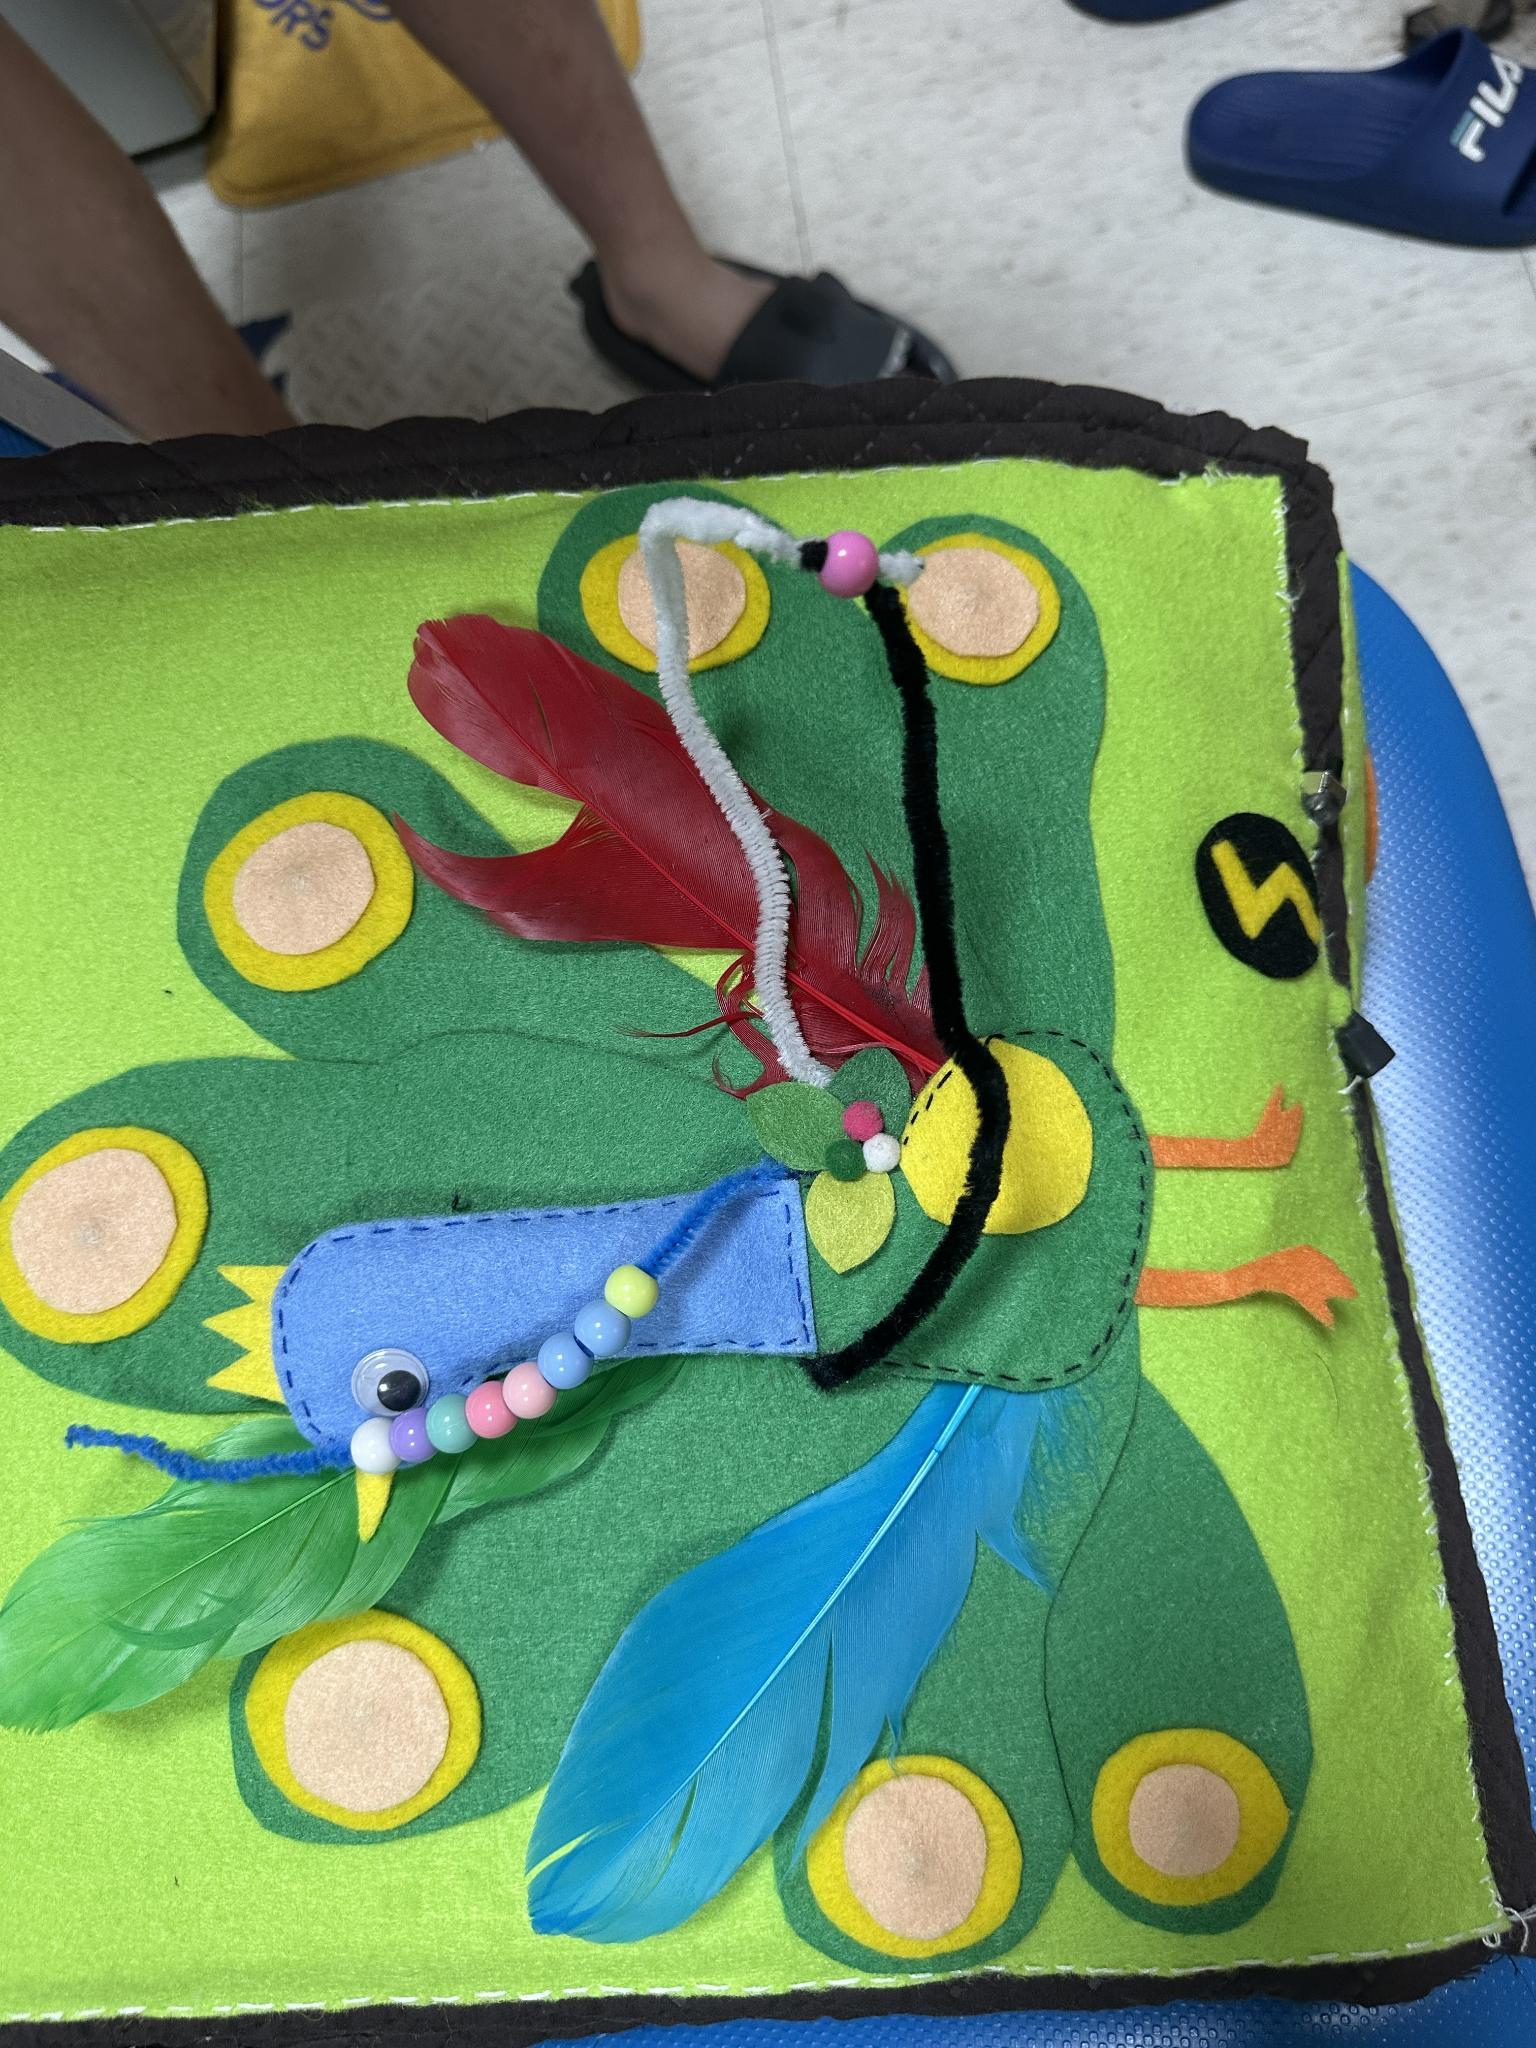bead: (808, 511, 886, 605), (534, 1327, 584, 1395), (424, 1388, 473, 1456), (350, 1416, 400, 1477), (463, 1380, 513, 1440), (503, 1364, 555, 1419), (578, 1297, 624, 1355), (610, 1264, 657, 1316), (392, 1403, 429, 1461)
